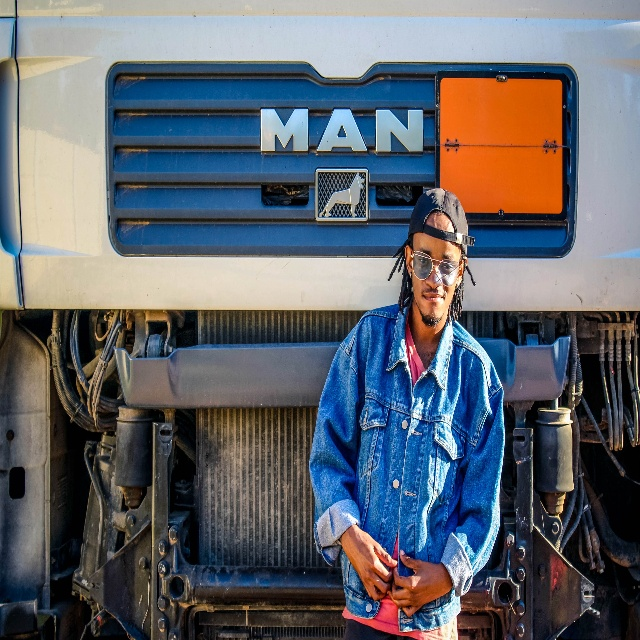Sin_guantes: (339, 523, 398, 602), (387, 546, 452, 617)
